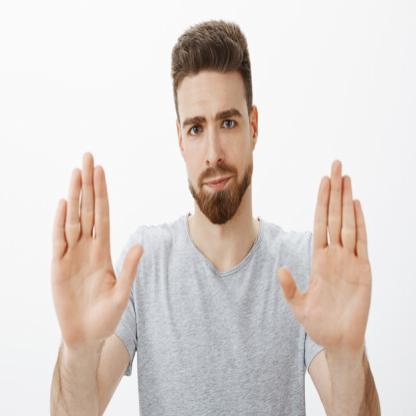stop: (275, 152, 375, 356), (50, 147, 146, 350)
